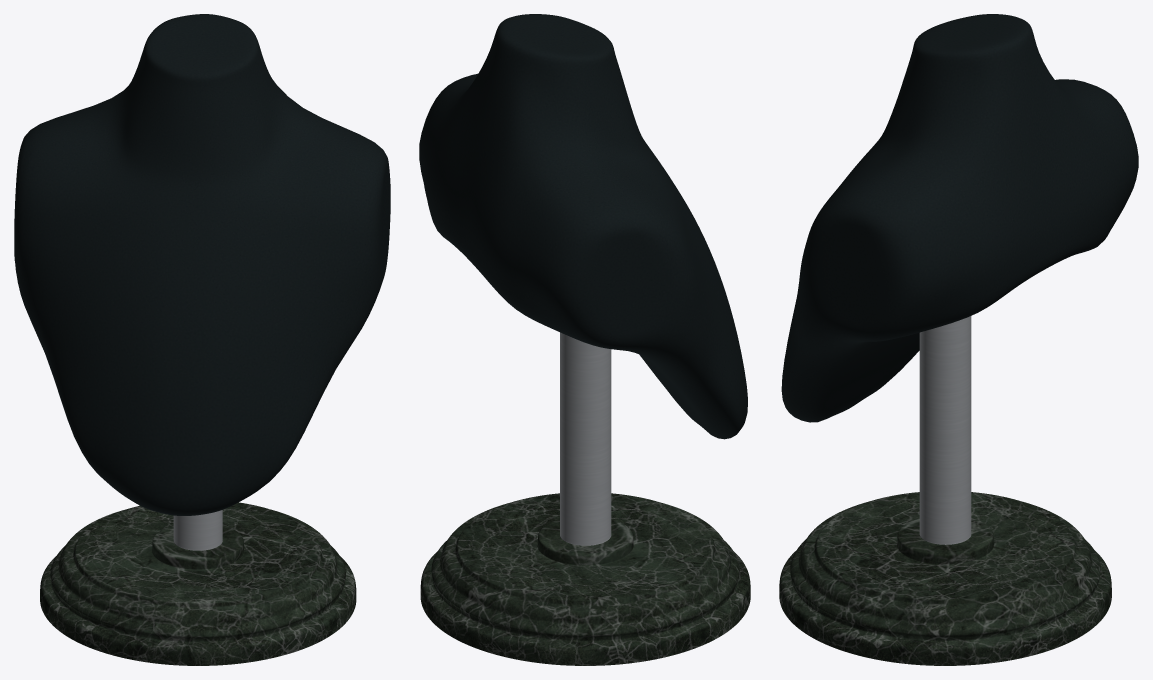
Rendered from bust.glb.
3 views of the same model, side by side, from view 1: azimuth 30°, elevation 25°; view 2: azimuth 150°, elevation 25°; view 3: azimuth 270°, elevation 25° (orthographic). The views are drawn at different scales.
Parts seen in each view (by area): view 1: jewellery_bust; view 2: jewellery_bust; view 3: jewellery_bust.
Boxes of the visible parts, <box> form: jewellery_bust: <box>14,14,390,665</box>; jewellery_bust: <box>419,14,750,665</box>; jewellery_bust: <box>779,14,1138,665</box>.
Bounding box in the file's own units: 0.3103 × 0.5228 × 0.2944.
Materials: 1 (1 with a texture image).
